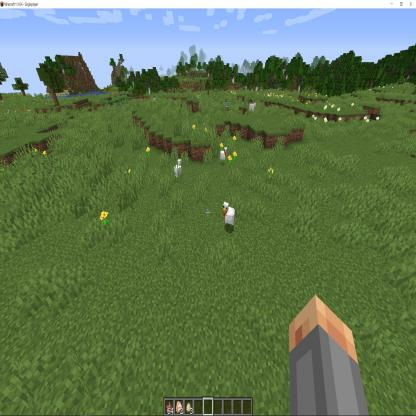minecraft-pigs: (222, 198, 236, 233), (174, 157, 184, 181), (218, 146, 228, 166)
